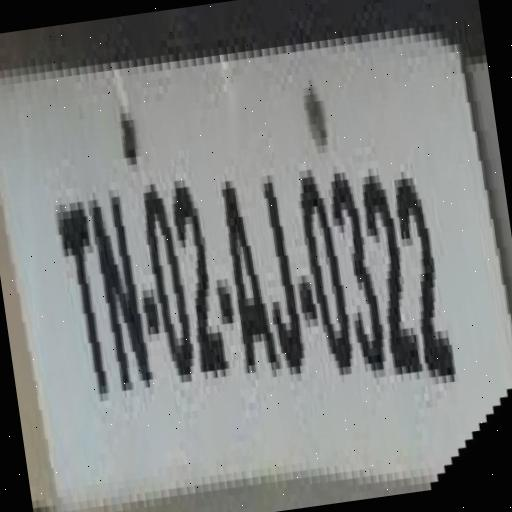number plate: (0, 0, 509, 507)
